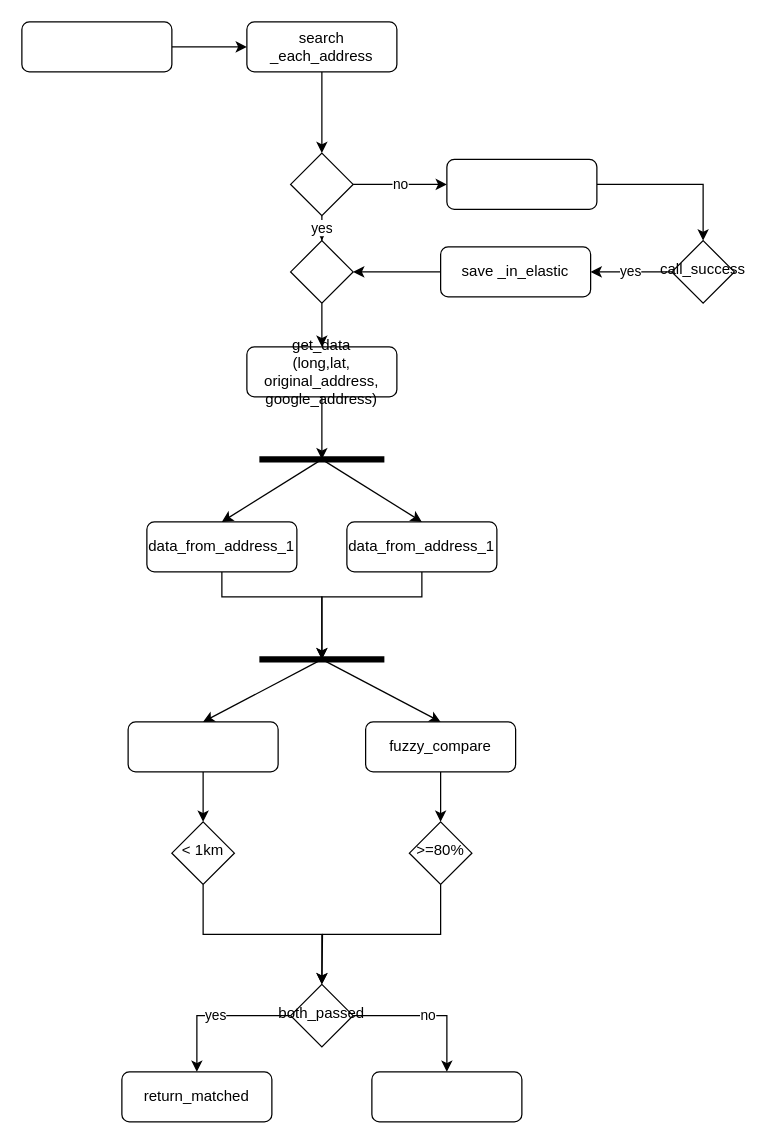
This 768x1144 diagram has some shape labels left out. The shapes that lost their labels are listed below. From the top down, each one's centre as x and y in pixels, then its label:
(96,46): input_address1 & address2
(321,184): info_found
(521,183): call_google_api
(202,746): distance_compute
(446,1096): return_unmatched
